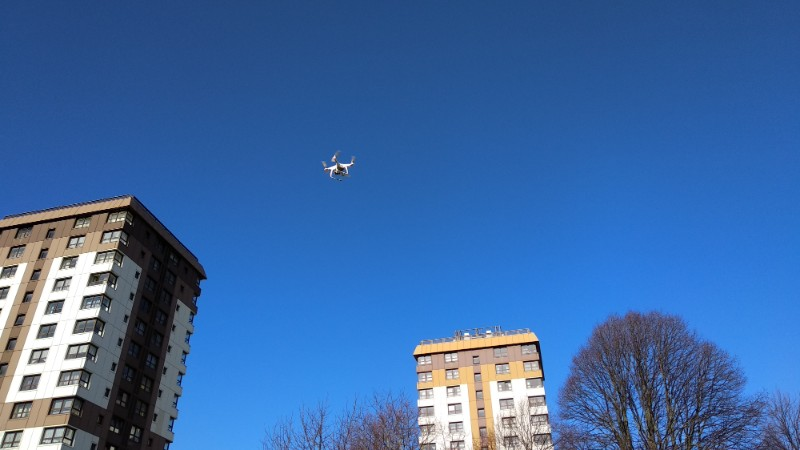drone: (319, 149, 360, 183)
